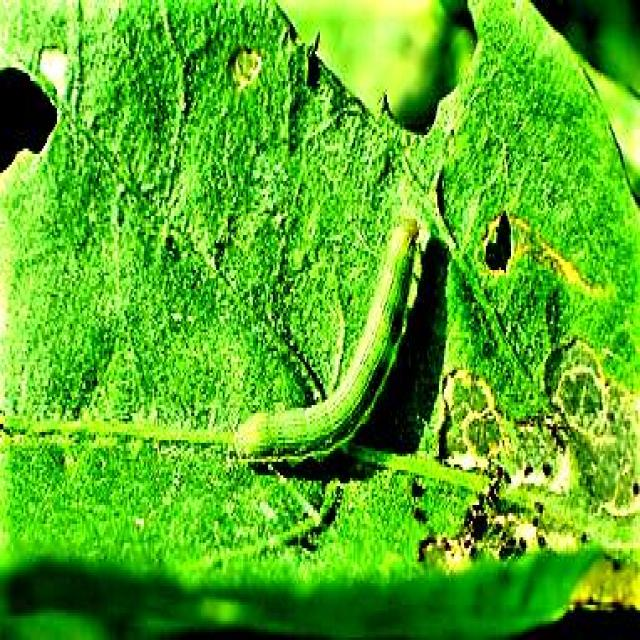armyworm: (236, 217, 429, 480)
